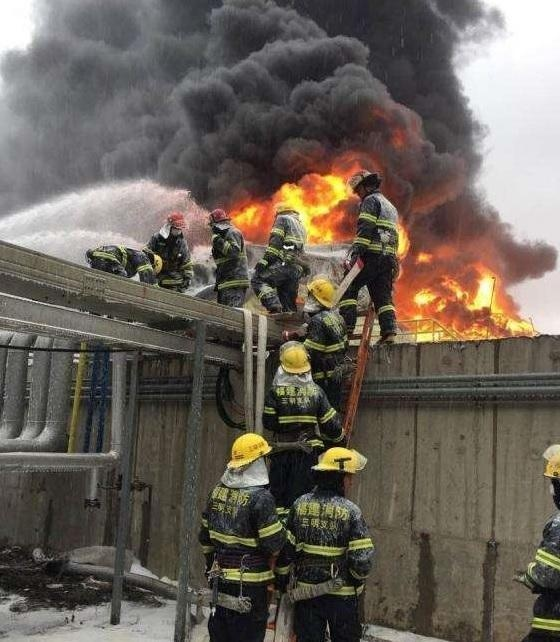fire: (218, 158, 520, 341), (402, 263, 531, 337)
